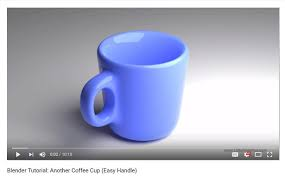cup: (78, 29, 199, 145)
